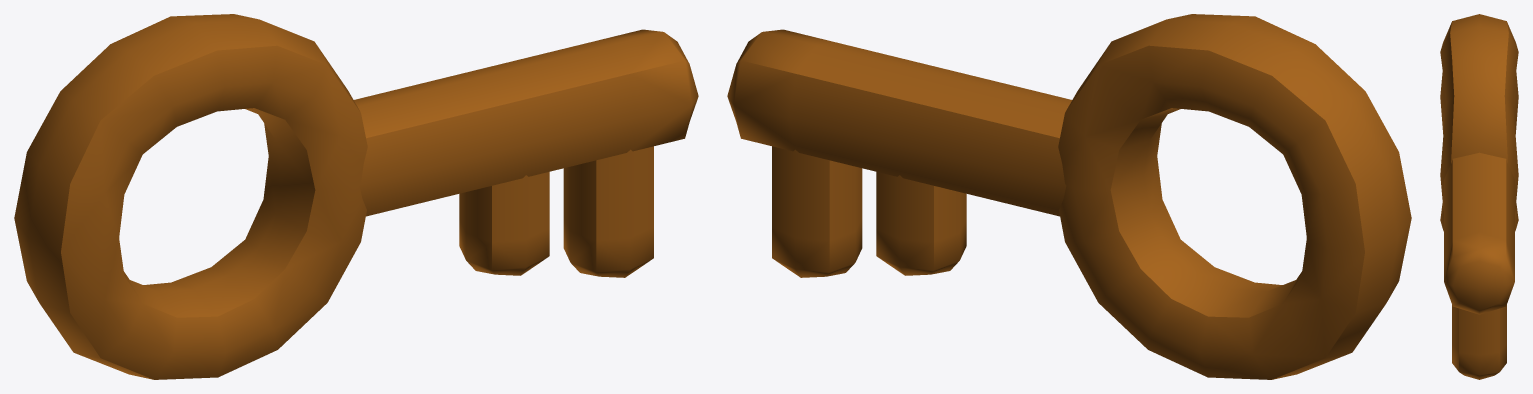
The model's file is key.obj.
3 renders of one model, left to right at view 1: azimuth 30°, elevation 25°; view 2: azimuth 150°, elevation 25°; view 3: azimuth 270°, elevation 25°, orthographic. The views are drawn at different scales.
Visible parts, largest first — view 1: Key_Cube.268; view 2: Key_Cube.268; view 3: Key_Cube.268.
Boxes of the visible parts, bbox=[...] form: Key_Cube.268: bbox=[14, 14, 698, 379]; Key_Cube.268: bbox=[727, 14, 1411, 379]; Key_Cube.268: bbox=[1440, 14, 1518, 379].
Size of the model in its own units: 1.93 by 0.9819 by 0.3177.
